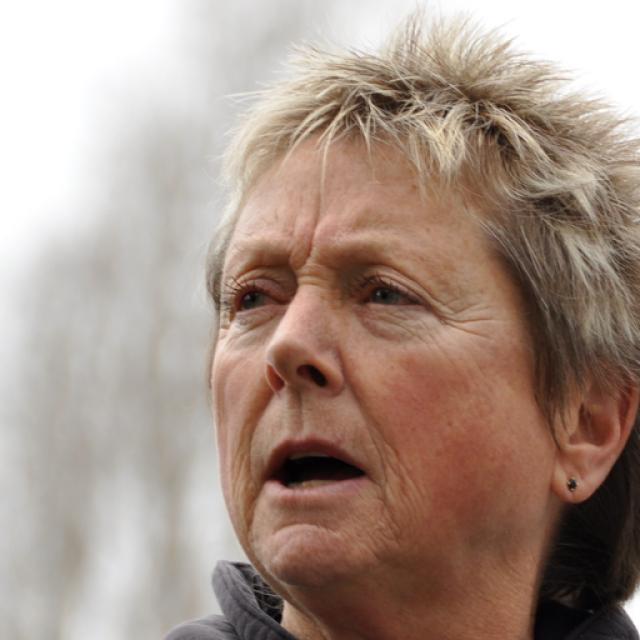sad: (210, 121, 562, 595)
